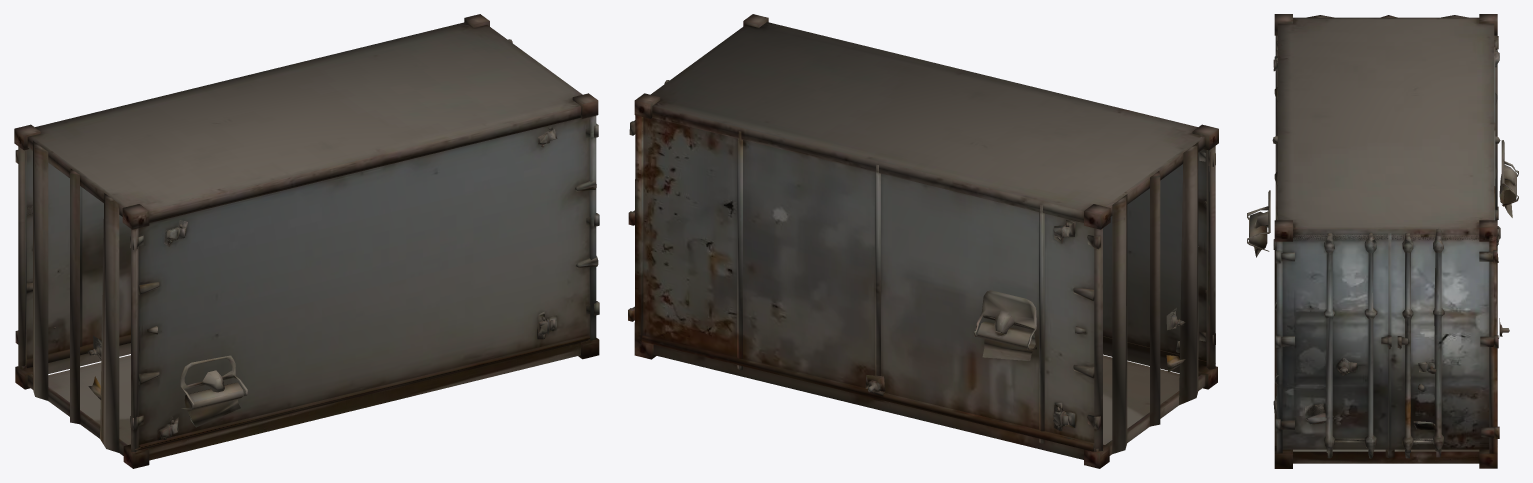
The model's file is abandoned_shipping_container.glb.
3 renders of one model, left to right at view 1: azimuth 30°, elevation 25°; view 2: azimuth 150°, elevation 25°; view 3: azimuth 270°, elevation 25°, orthographic. The views are drawn at different scales.
Parts seen in each view (by area): view 1: tripo_node_d0f63b22-75c2-4261-a274-9821a3782123; view 2: tripo_node_d0f63b22-75c2-4261-a274-9821a3782123; view 3: tripo_node_d0f63b22-75c2-4261-a274-9821a3782123.
Boxes of the visible parts, x1=… form: tripo_node_d0f63b22-75c2-4261-a274-9821a3782123: x1=14, y1=14, x2=599, y2=468; tripo_node_d0f63b22-75c2-4261-a274-9821a3782123: x1=628, y1=14, x2=1218, y2=468; tripo_node_d0f63b22-75c2-4261-a274-9821a3782123: x1=1247, y1=14, x2=1518, y2=468.
Bounding box in the file's own units: 0.998 × 0.5098 × 0.5215.
1 material, 1 textured.
